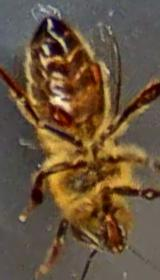varroa_mite: (72, 57, 113, 91), (42, 102, 80, 133)
